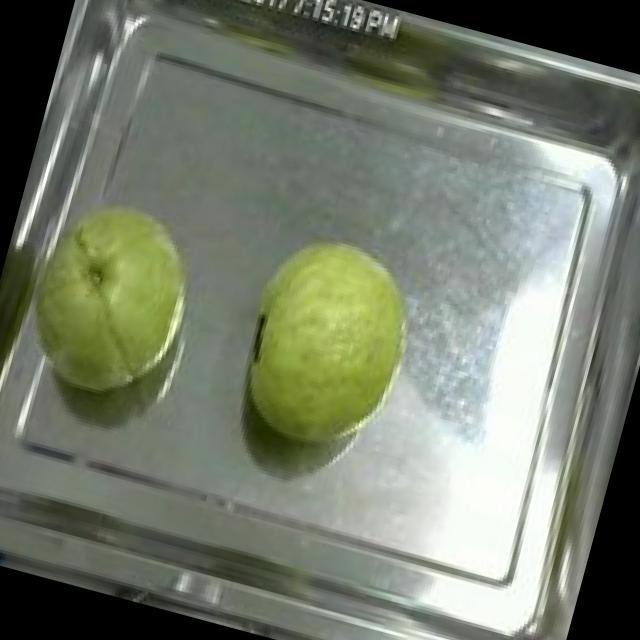Fruit: (0, 163, 226, 422), (214, 211, 436, 471)
